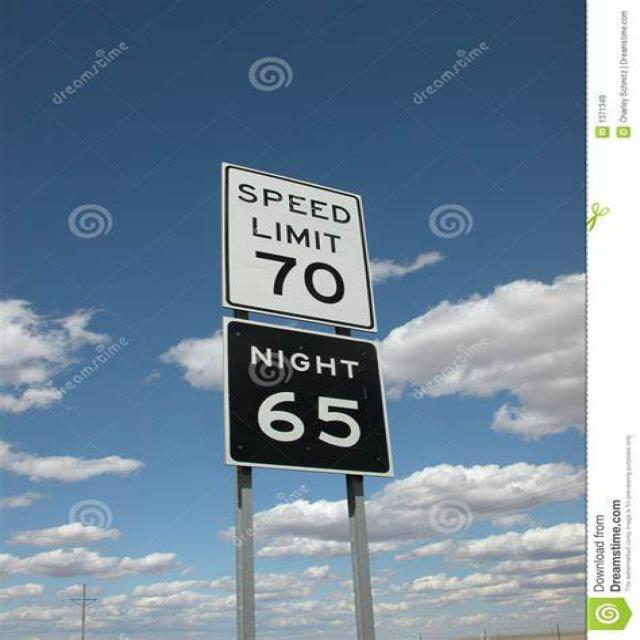speedLimit70: (222, 162, 372, 331)
